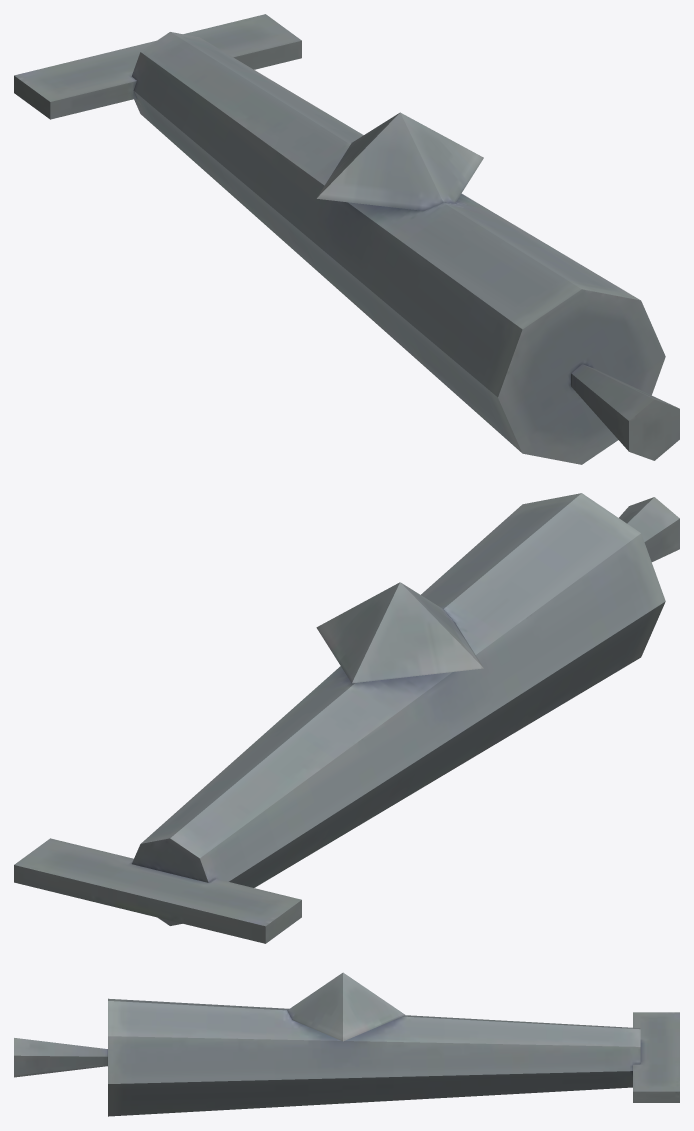
The model's file is life-dolphin.glb.
3 renders of one model, top to bottom at view 1: azimuth 30°, elevation 25°; view 2: azimuth 150°, elevation 25°; view 3: azimuth 270°, elevation 25°, orthographic. The views are drawn at different scales.
Parts seen in each view (by area): view 1: life-dolphin; view 2: life-dolphin; view 3: life-dolphin.
Boxes of the visible parts, left/top/right/bottom form: life-dolphin: left=14, top=14, right=679, bottom=464; life-dolphin: left=14, top=493, right=679, bottom=943; life-dolphin: left=14, top=972, right=679, bottom=1116.
Bounding box in the file's own units: 0.12 × 0.1 × 0.425.
1 material, 1 textured.
